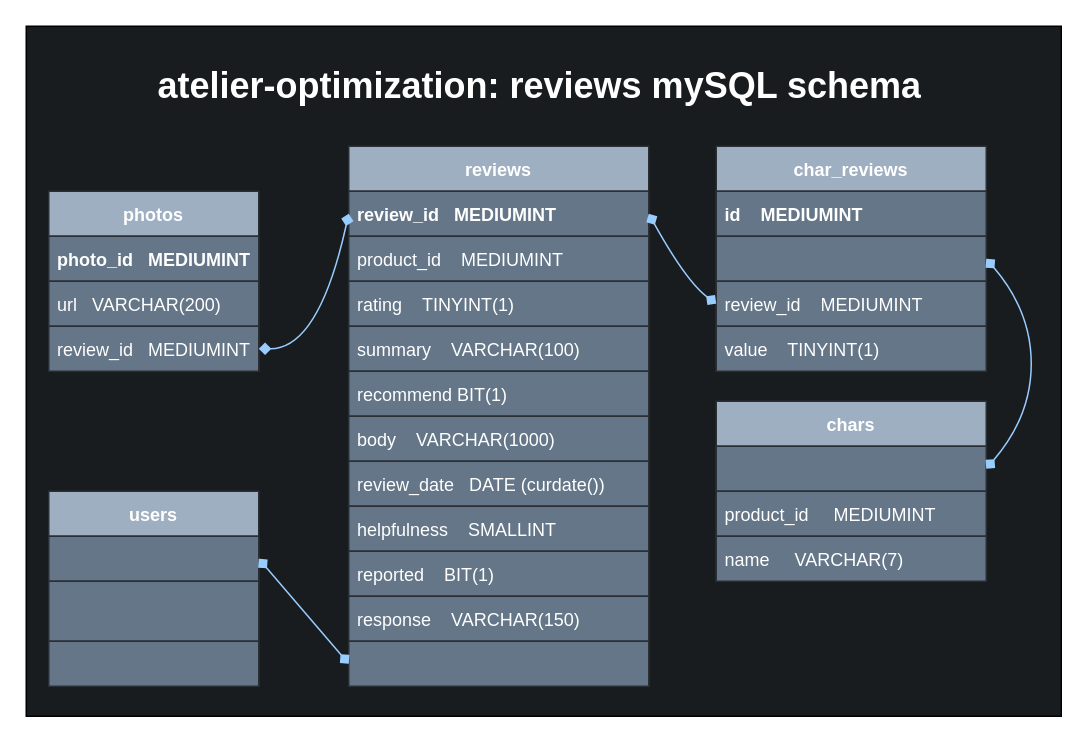
Some shapes in this 1088 by 743 pixel diagram are drawn without their labels. The centre of each missing label's shape, as x and y in pixels:
"char_id MEDIUMINT" goes at point (850, 468).
"characteristic_id MEDIUMINT" goes at point (850, 258).
"email VARCHAR(150)" goes at point (153, 663).
"name VARCHAR(30), Unique" goes at point (153, 610).
"reviewer_id MEDIUMINT" goes at point (498, 663).
"user_id MEDIUMINT" goes at point (153, 558).
